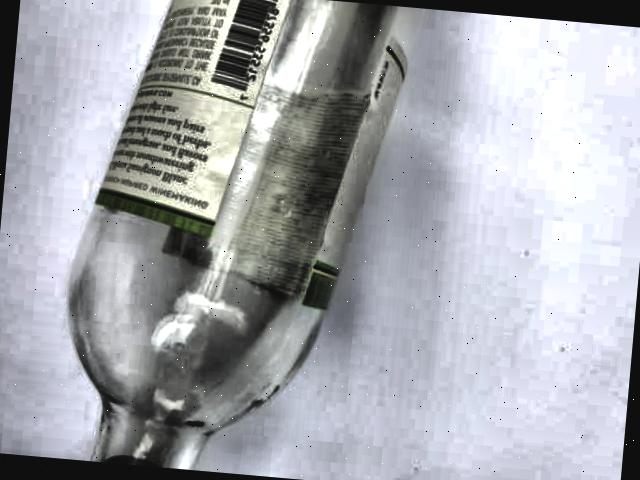Bottles: (45, 0, 419, 480)
